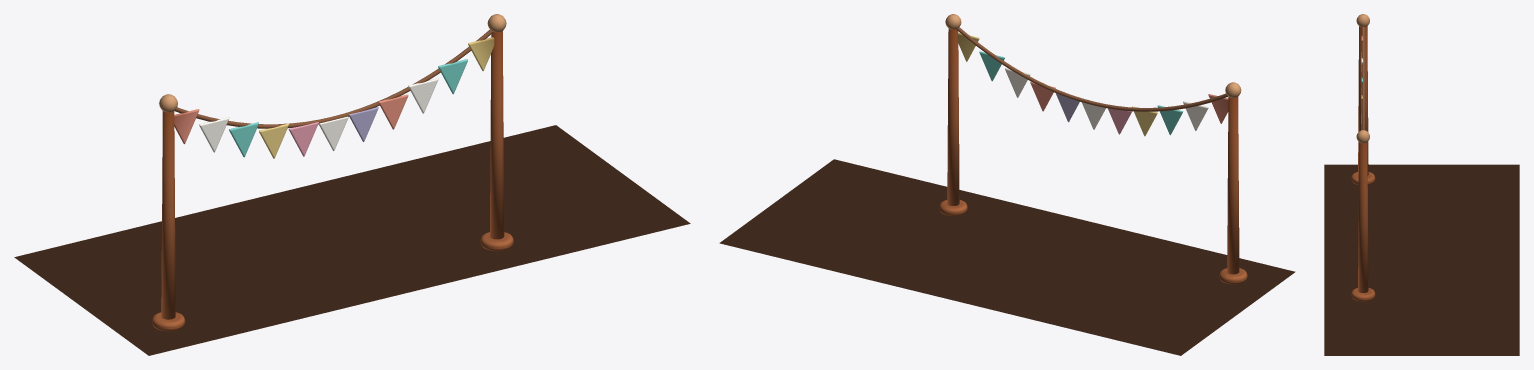
The model's file is prop_flag_chain.glb.
3 views of the same model, side by side, from view 1: azimuth 30°, elevation 25°; view 2: azimuth 150°, elevation 25°; view 3: azimuth 270°, elevation 25° (orthographic). The views are drawn at different scales.
Visible parts, largest first — view 1: baked_shadow, pole-1, pole1, rope, flag1, flag9, flag2, flag3, flag8, flag7, flag4, flag6 (+1 smaller); view 2: baked_shadow, pole-1, pole1, rope; view 3: baked_shadow, pole1, pole-1, rope, pole_base1, pole_base-1.
Part boxes in pixels (x1,y1,x2,y2): baked_shadow: (14,125,690,355); pole-1: (161,111,175,319); pole1: (490,31,504,239); rope: (175,29,493,128); flag1: (199,117,229,152); flag9: (438,59,467,94); flag2: (229,122,258,157); flag3: (259,123,288,158); flag8: (408,78,438,113); flag7: (378,94,408,129); flag4: (288,122,318,156); flag6: (349,107,378,141); baked_shadow: (719,159,1295,355); pole-1: (1227,97,1239,274); pole1: (947,29,959,205); rope: (956,27,1227,111); baked_shadow: (1324,164,1519,355); pole1: (1358,142,1368,292); pole-1: (1358,26,1368,175); rope: (1361,26,1364,129); pole_base1: (1351,288,1375,301); pole_base-1: (1351,172,1375,184).
Size of the model in its own units: 5.94 by 2.42 by 2.56.
Materials: 10 (1 with a texture image).
